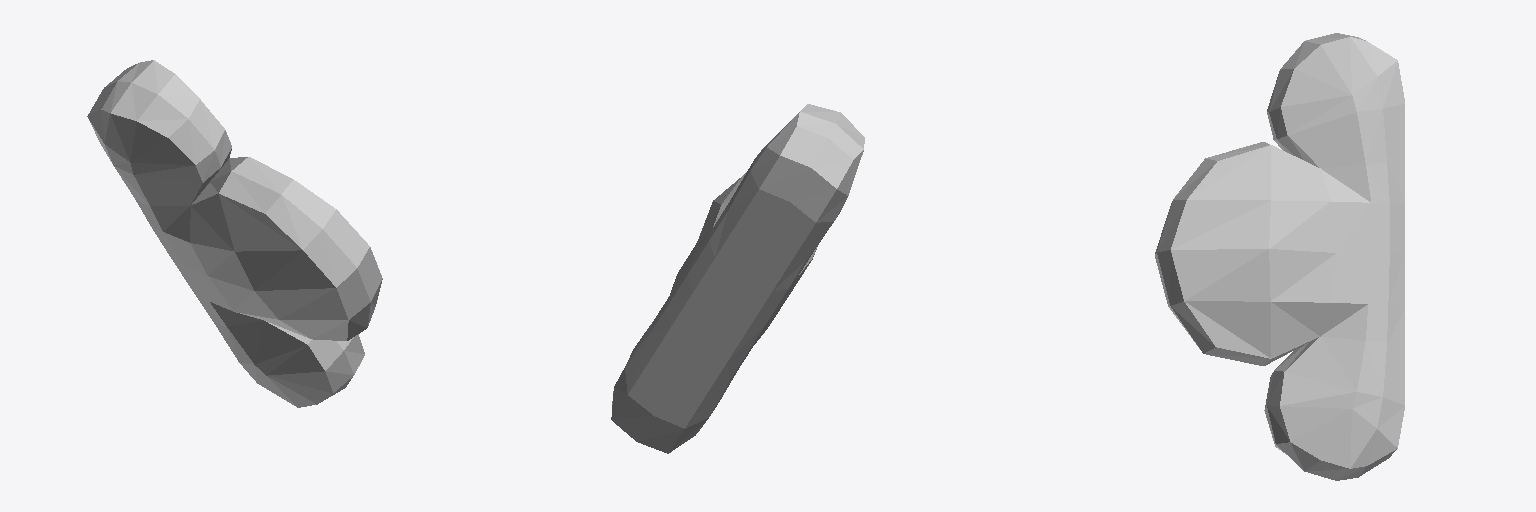
3 views of the same model, side by side, from view 1: azimuth 30°, elevation 25°; view 2: azimuth 150°, elevation 25°; view 3: azimuth 270°, elevation 25° (orthographic).
Parts seen in each view (by area): view 1: clouds_01_Plane.004_clouds_01_Plane.006; view 2: clouds_01_Plane.004_clouds_01_Plane.006; view 3: clouds_01_Plane.004_clouds_01_Plane.006.
Part boxes in pixels (x1,y1,x2,y2): clouds_01_Plane.004_clouds_01_Plane.006: (87,60,382,407); clouds_01_Plane.004_clouds_01_Plane.006: (611,104,864,453); clouds_01_Plane.004_clouds_01_Plane.006: (1155,33,1404,480).
Bounding box in the file's own units: 3.81 × 5.62 × 3.43.